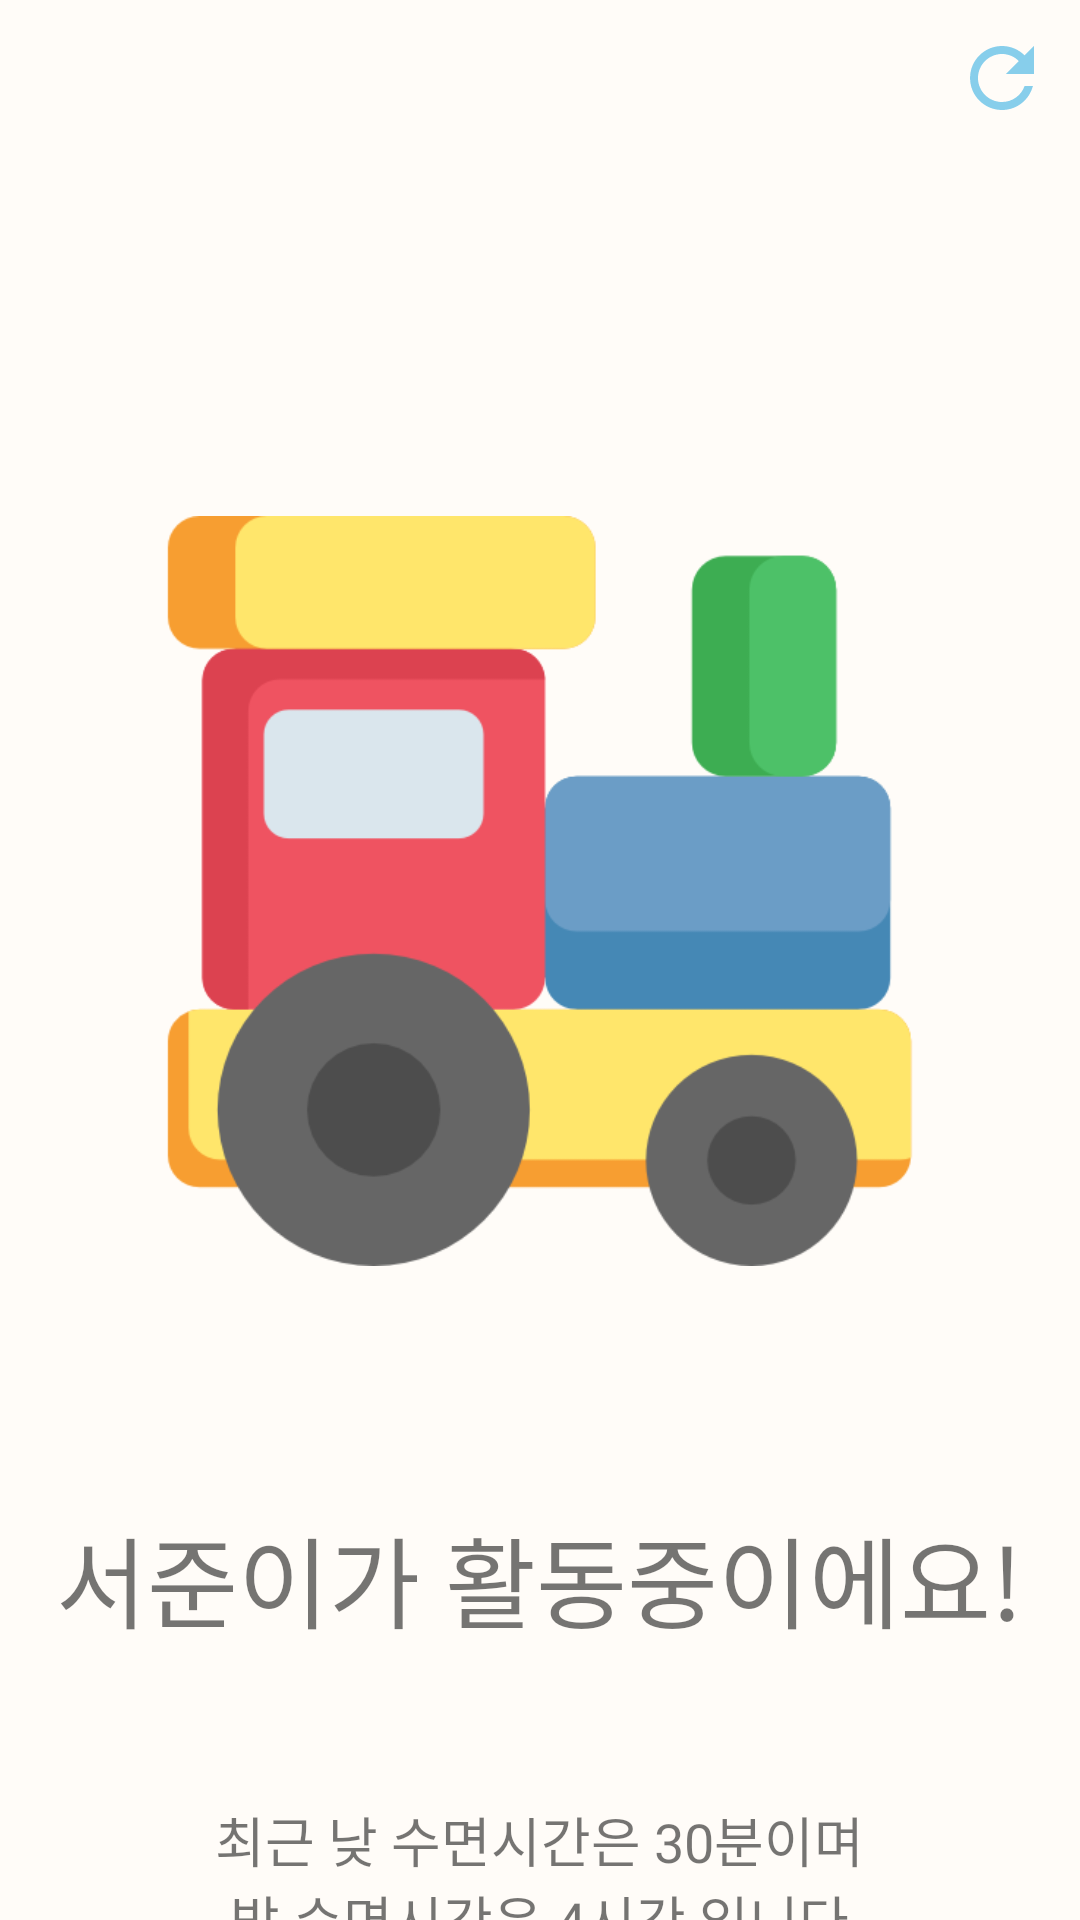

Where to tap for icons on this 1080w x 1920h app screen, as (x,y):
refresh: (1002,78)
